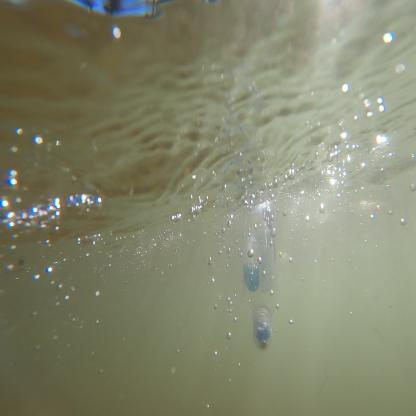Rác: (218, 188, 300, 345)
